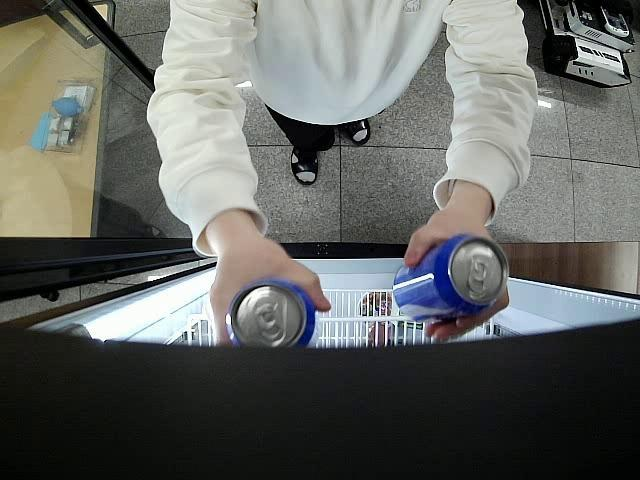13_pocariSweat: (392, 232, 508, 333), (225, 280, 316, 352)
